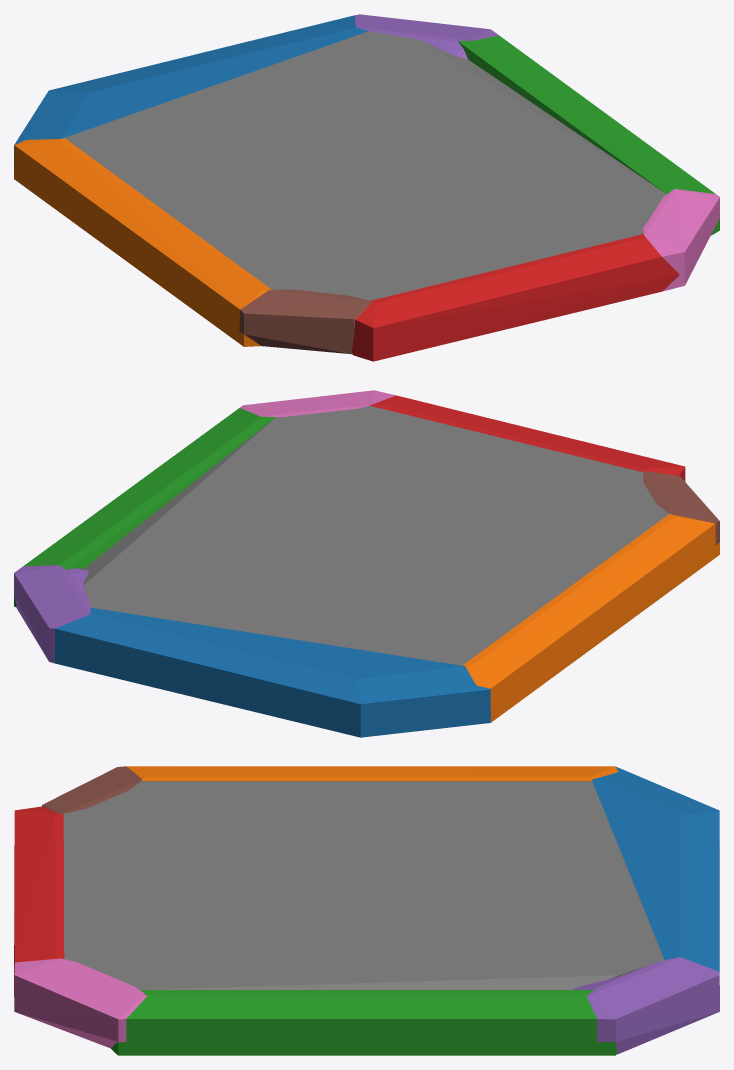
File: Mirror_cvx.obj
3 views of the same model, one above another, from view 1: azimuth 30°, elevation 25°; view 2: azimuth 150°, elevation 25°; view 3: azimuth 270°, elevation 25° (orthographic). The views are drawn at different scales.
Visible parts, largest first — view 1: scenes/apartment_0000_coacd/output/Unknown/Mirror/cvx/Mirror007, scenes/apartment_0000_coacd/output/Unknown/Mirror/cvx/Mirror003, scenes/apartment_0000_coacd/output/Unknown/Mirror/cvx/Mirror001, scenes/apartment_0000_coacd/output/Unknown/Mirror/cvx/Mirror000, scenes/apartment_0000_coacd/output/Unknown/Mirror/cvx/Mirror002, scenes/apartment_0000_coacd/output/Unknown/Mirror/cvx/Mirror005, scenes/apartment_0000_coacd/output/Unknown/Mirror/cvx/Mirror006, scenes/apartment_0000_coacd/output/Unknown/Mirror/cvx/Mirror004; view 2: scenes/apartment_0000_coacd/output/Unknown/Mirror/cvx/Mirror007, scenes/apartment_0000_coacd/output/Unknown/Mirror/cvx/Mirror000, scenes/apartment_0000_coacd/output/Unknown/Mirror/cvx/Mirror001, scenes/apartment_0000_coacd/output/Unknown/Mirror/cvx/Mirror002, scenes/apartment_0000_coacd/output/Unknown/Mirror/cvx/Mirror003, scenes/apartment_0000_coacd/output/Unknown/Mirror/cvx/Mirror004, scenes/apartment_0000_coacd/output/Unknown/Mirror/cvx/Mirror006, scenes/apartment_0000_coacd/output/Unknown/Mirror/cvx/Mirror005; view 3: scenes/apartment_0000_coacd/output/Unknown/Mirror/cvx/Mirror007, scenes/apartment_0000_coacd/output/Unknown/Mirror/cvx/Mirror002, scenes/apartment_0000_coacd/output/Unknown/Mirror/cvx/Mirror000, scenes/apartment_0000_coacd/output/Unknown/Mirror/cvx/Mirror004, scenes/apartment_0000_coacd/output/Unknown/Mirror/cvx/Mirror006, scenes/apartment_0000_coacd/output/Unknown/Mirror/cvx/Mirror003, scenes/apartment_0000_coacd/output/Unknown/Mirror/cvx/Mirror001, scenes/apartment_0000_coacd/output/Unknown/Mirror/cvx/Mirror005.
Boxes of the visible parts, x1,y1,x2,y2 form: scenes/apartment_0000_coacd/output/Unknown/Mirror/cvx/Mirror007: (65,31,666,300); scenes/apartment_0000_coacd/output/Unknown/Mirror/cvx/Mirror003: (352,234,679,361); scenes/apartment_0000_coacd/output/Unknown/Mirror/cvx/Mirror001: (14,138,271,346); scenes/apartment_0000_coacd/output/Unknown/Mirror/cvx/Mirror000: (14,15,368,166); scenes/apartment_0000_coacd/output/Unknown/Mirror/cvx/Mirror002: (458,35,719,235); scenes/apartment_0000_coacd/output/Unknown/Mirror/cvx/Mirror005: (239,289,371,354); scenes/apartment_0000_coacd/output/Unknown/Mirror/cvx/Mirror006: (643,189,719,291); scenes/apartment_0000_coacd/output/Unknown/Mirror/cvx/Mirror004: (354,14,498,59); scenes/apartment_0000_coacd/output/Unknown/Mirror/cvx/Mirror007: (83,405,669,665); scenes/apartment_0000_coacd/output/Unknown/Mirror/cvx/Mirror000: (54,607,490,737); scenes/apartment_0000_coacd/output/Unknown/Mirror/cvx/Mirror001: (462,514,719,722); scenes/apartment_0000_coacd/output/Unknown/Mirror/cvx/Mirror002: (14,408,275,607); scenes/apartment_0000_coacd/output/Unknown/Mirror/cvx/Mirror003: (370,395,685,481); scenes/apartment_0000_coacd/output/Unknown/Mirror/cvx/Mirror004: (14,565,90,663); scenes/apartment_0000_coacd/output/Unknown/Mirror/cvx/Mirror006: (240,390,395,416); scenes/apartment_0000_coacd/output/Unknown/Mirror/cvx/Mirror005: (643,471,719,544); scenes/apartment_0000_coacd/output/Unknown/Mirror/cvx/Mirror007: (63,781,664,989); scenes/apartment_0000_coacd/output/Unknown/Mirror/cvx/Mirror002: (111,990,617,1055); scenes/apartment_0000_coacd/output/Unknown/Mirror/cvx/Mirror000: (592,766,719,972); scenes/apartment_0000_coacd/output/Unknown/Mirror/cvx/Mirror004: (573,957,719,1054); scenes/apartment_0000_coacd/output/Unknown/Mirror/cvx/Mirror006: (14,958,147,1048); scenes/apartment_0000_coacd/output/Unknown/Mirror/cvx/Mirror003: (14,806,64,996); scenes/apartment_0000_coacd/output/Unknown/Mirror/cvx/Mirror001: (127,766,618,781); scenes/apartment_0000_coacd/output/Unknown/Mirror/cvx/Mirror005: (42,766,142,814).
Bounding box in the file's own units: 1.18 × 0.095 × 1.39.
